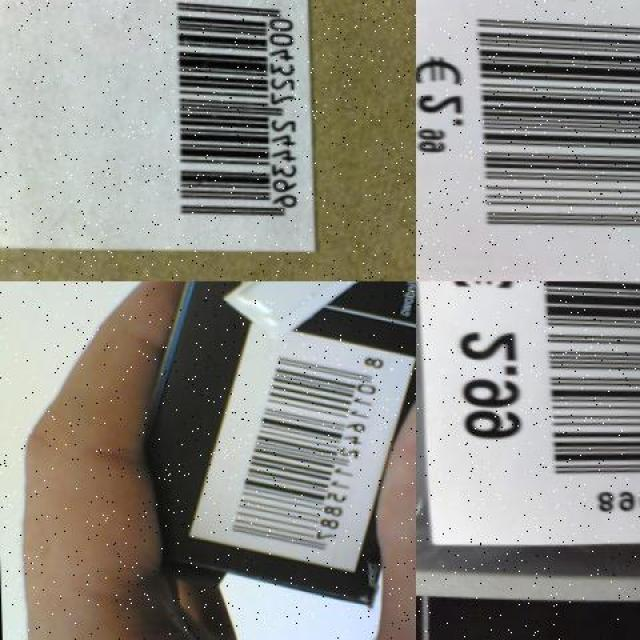Barcode: (181, 314, 415, 573), (462, 0, 640, 241), (152, 0, 306, 233), (516, 281, 640, 484)
